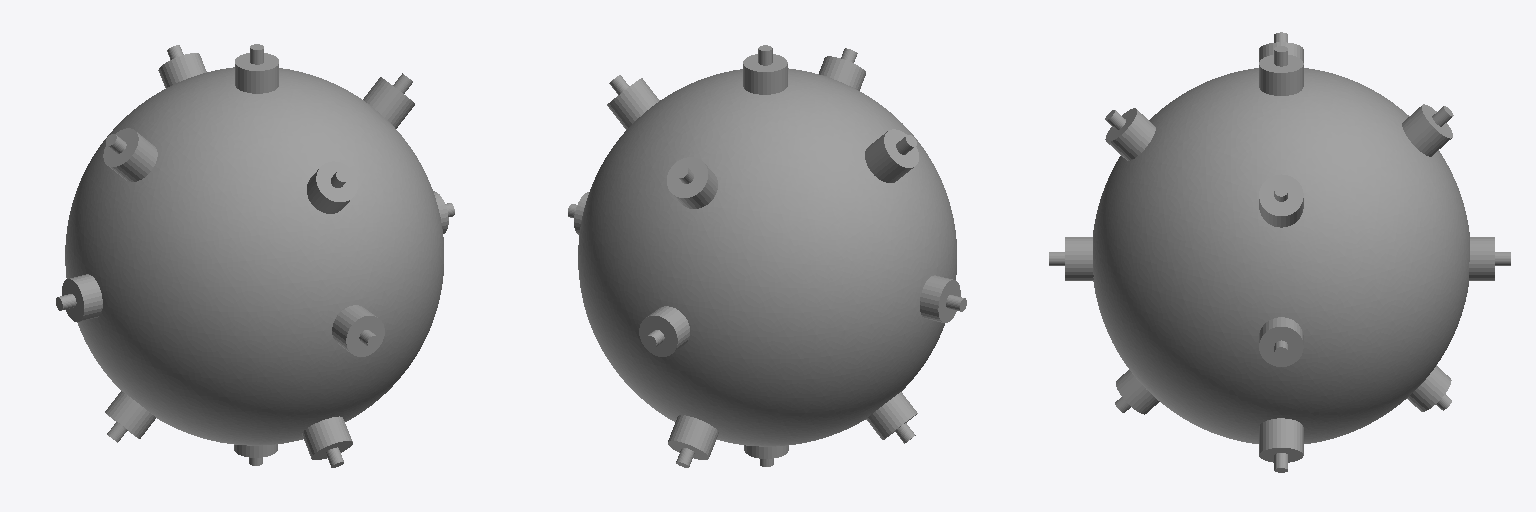
Rendered from watermine7.obj.
3 views of the same model, side by side, from view 1: azimuth 30°, elevation 25°; view 2: azimuth 150°, elevation 25°; view 3: azimuth 270°, elevation 25° (orthographic).
Parts seen in each view (by area): view 1: Icosphere, Cylinder.011, Cylinder.004, Cylinder.006, Cylinder, Cylinder.008, Cylinder.003, Cylinder.010, Cylinder.013, Cylinder.007, Cylinder.002; view 2: Icosphere, Cylinder.011, Cylinder.007, Cylinder.005, Cylinder, Cylinder.009, Cylinder.003, Cylinder.010, Cylinder.013, Cylinder.006, Cylinder.002; view 3: Icosphere, Cylinder.012, Cylinder.010, Cylinder.001, Cylinder.007, Cylinder, Cylinder.006, Cylinder.004, Cylinder.005, Cylinder.009, Cylinder.008, Cylinder.011.
Part boxes in pixels (left/top/right/bottom): Icosphere: left=65, top=67, right=443, bottom=445; Cylinder.011: left=103, top=128, right=157, bottom=181; Cylinder.004: left=332, top=305, right=384, bottom=356; Cylinder.006: left=307, top=161, right=357, bottom=213; Cylinder: left=235, top=44, right=278, bottom=93; Cylinder.008: left=302, top=416, right=352, bottom=467; Cylinder.003: left=56, top=274, right=102, bottom=321; Cylinder.010: left=363, top=73, right=414, bottom=128; Cylinder.013: left=105, top=391, right=155, bottom=442; Cylinder.007: left=158, top=45, right=206, bottom=87; Cylinder.002: left=234, top=444, right=277, bottom=465; Icosphere: left=578, top=68, right=956, bottom=446; Cylinder.011: left=865, top=129, right=918, bottom=182; Cylinder.007: left=667, top=157, right=717, bottom=208; Cylinder.005: left=639, top=306, right=689, bottom=356; Cylinder: left=743, top=45, right=787, bottom=94; Cylinder.009: left=668, top=415, right=718, bottom=467; Cylinder.003: left=920, top=275, right=966, bottom=322; Cylinder.010: left=607, top=75, right=659, bottom=129; Cylinder.013: left=866, top=392, right=917, bottom=443; Cylinder.006: left=819, top=48, right=865, bottom=90; Cylinder.002: left=744, top=445, right=788, bottom=466; Icosphere: left=1093, top=68, right=1469, bottom=443; Cylinder.012: left=1259, top=418, right=1303, bottom=472; Cylinder.010: left=1259, top=174, right=1303, bottom=227; Cylinder.001: left=1259, top=317, right=1303, bottom=366; Cylinder.007: left=1402, top=104, right=1453, bottom=156; Cylinder: left=1259, top=46, right=1303, bottom=95; Cylinder.006: left=1105, top=108, right=1155, bottom=160; Cylinder.004: left=1049, top=237, right=1093, bottom=280; Cylinder.005: left=1469, top=237, right=1510, bottom=280; Cylinder.009: left=1407, top=365, right=1451, bottom=411; Cylinder.008: left=1115, top=370, right=1159, bottom=414; Cylinder.011: left=1259, top=32, right=1303, bottom=62.
Size of the model in its own units: 2.38 by 2.41 by 2.43.